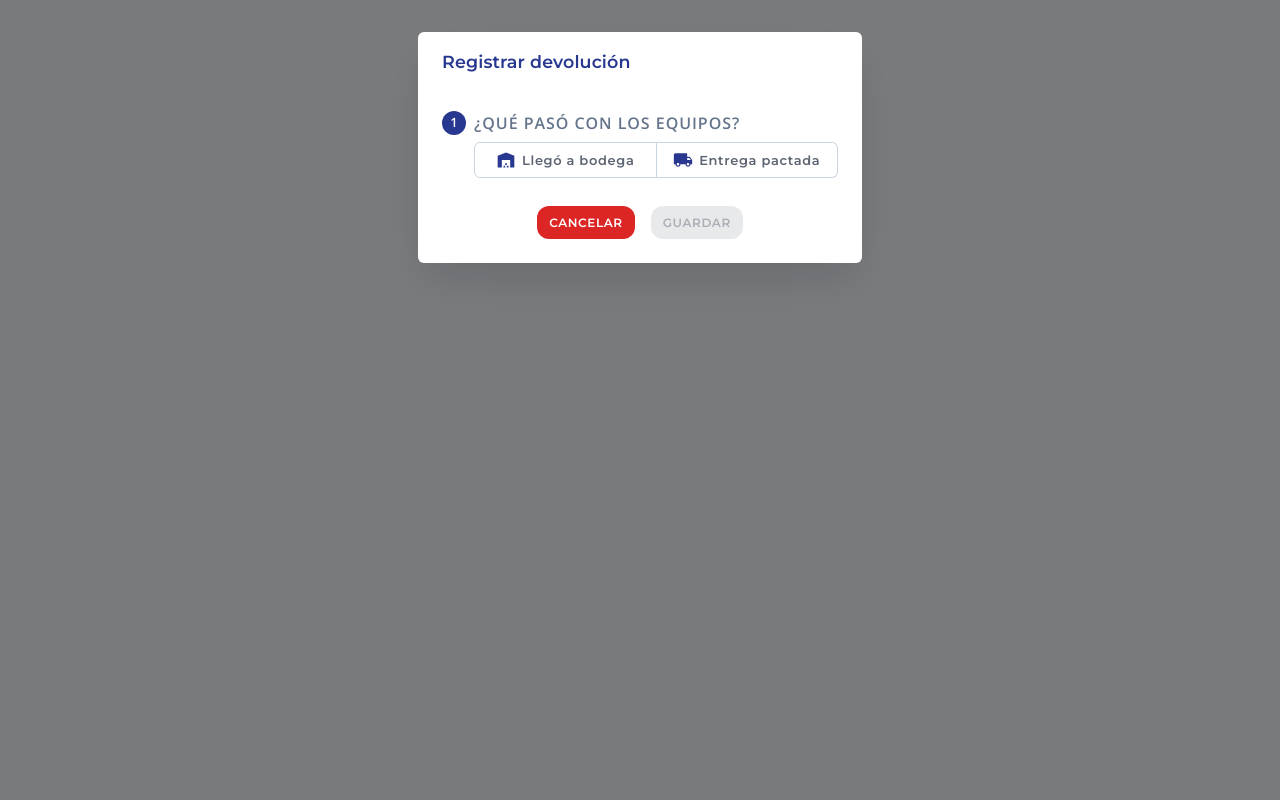
Scenario: RegistrarDevolucionDialog — primero la decisión › hasta que no se elige no muestra los equipos ni deja guardar
Expected: the text "¿Qué pasó con los equipos?" is shown, top-left (474, 112), bottom-right (740, 134)
Expected: the text "ANDAMIO" is not shown
Click the button "Llegó a bodega" at (565,160), box top-left (474, 142), bottom-right (656, 178)
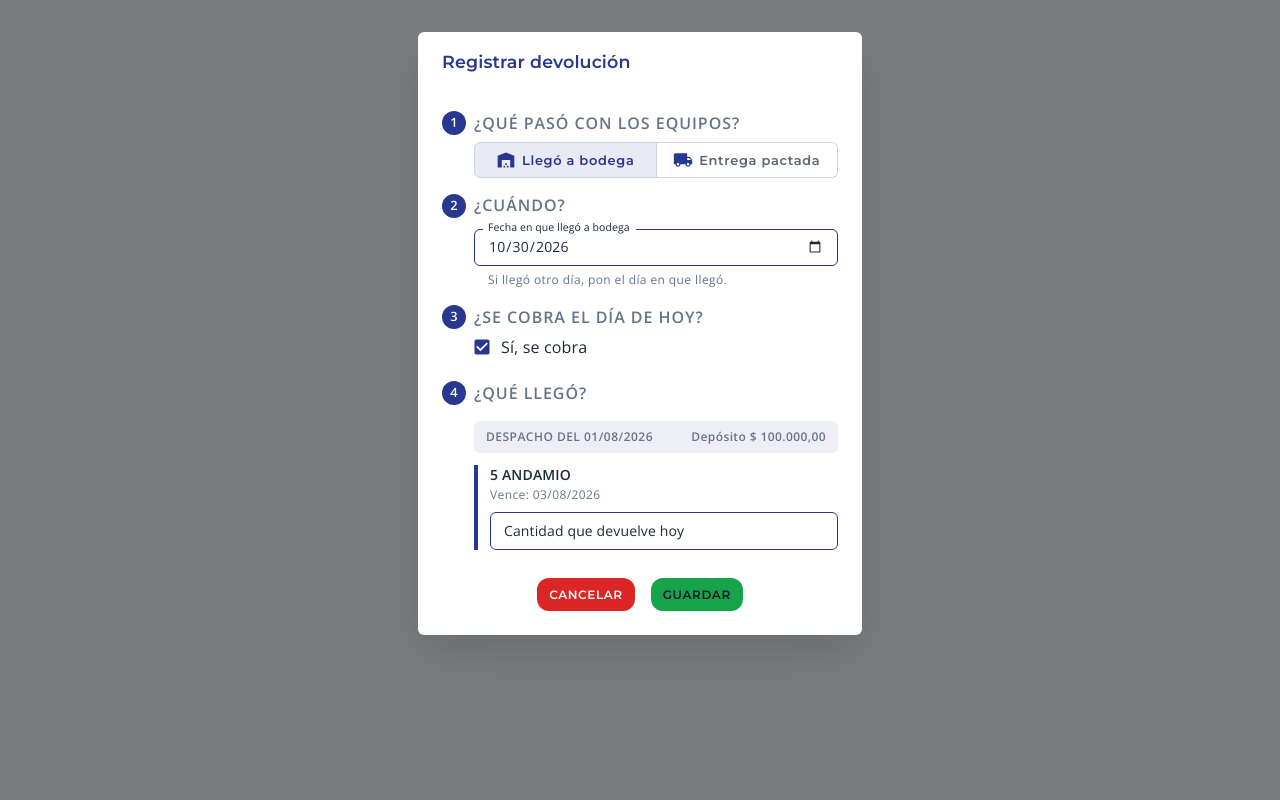
Result: the text "¿Qué llegó?" is shown at top-left (474, 382), bottom-right (587, 404)
Result: the text "5 ANDAMIO" is shown at top-left (490, 464), bottom-right (571, 484)
Result: the button "Guardar" is enabled at top-left (651, 578), bottom-right (743, 610)
